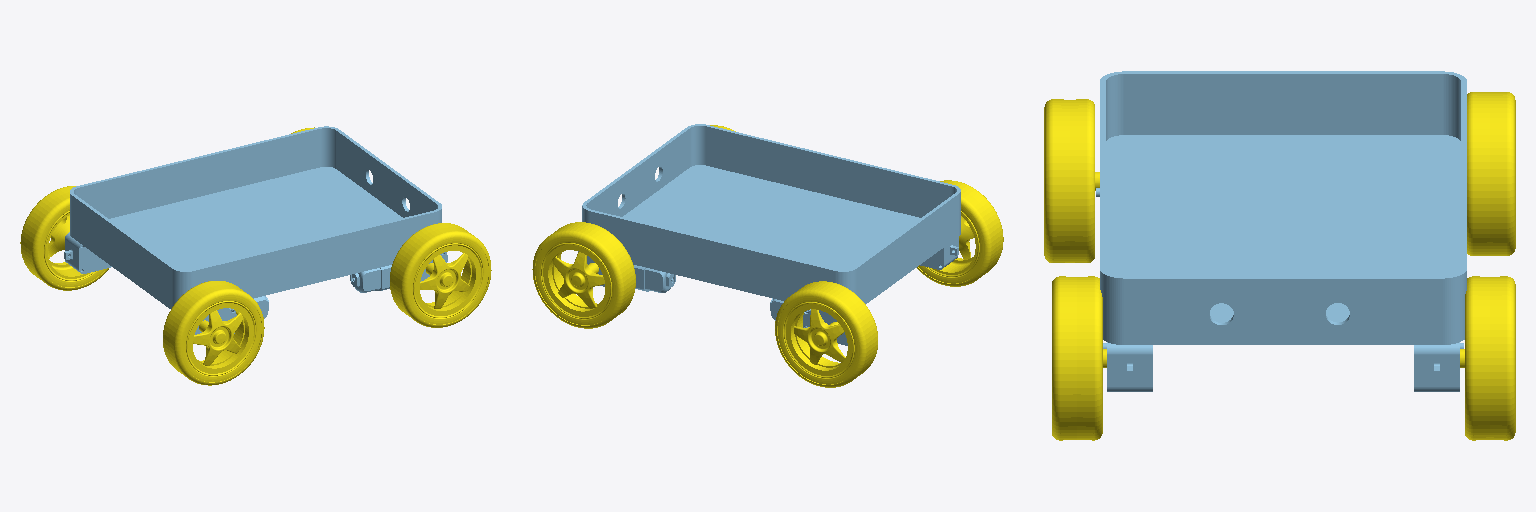
URDF robot description (ESP32-Robot):
<?xml version="1.0" ?>
<!-- Generated using onshape-to-robot -->
<!-- Onshape https://cad.onshape.com/documents/7fdcb55562a96810991061bd/w/7d5ac8f955a3dac2ff2d7f45/e/b62d95d33c773ee3148a519f -->
<robot name="ESP32-Robot">
  <!-- Link part_1 -->
  <link name="part_1">
    <inertial>
      <origin xyz="0.00444575 0.00770616 -0.0070872" rpy="0 0 0"/>
      <mass value="0.222036"/>
      <inertia ixx="0.000748572" ixy="5.82837e-06" ixz="2.33543e-06" iyy="0.00108581" iyz="-7.27808e-07" izz="0.00177234"/>
    </inertial>
    <!-- Part tt_motor___single_sided -->
    <visual>
      <origin xyz="0.0929445 0.0707125 -0.0174299" rpy="0 -0 1.5708"/>
      <geometry>
        <mesh filename="assets/tt_motor___single_sided.stl"/>
      </geometry>
      <material name="tt_motor___single_sided_material">
        <color rgba="0.615686 0.811765 0.929412 1"/>
      </material>
    </visual>
    <collision>
      <origin xyz="0.0929445 0.0707125 -0.0174299" rpy="0 -0 1.5708"/>
      <geometry>
        <mesh filename="assets/tt_motor___single_sided.stl"/>
      </geometry>
    </collision>
    <!-- Part part_1 -->
    <visual>
      <origin xyz="0.00387347 0.00801641 -0.0063299" rpy="0 -0 0"/>
      <geometry>
        <mesh filename="assets/part_1.stl"/>
      </geometry>
      <material name="part_1_material">
        <color rgba="0.615686 0.811765 0.929412 1"/>
      </material>
    </visual>
    <collision>
      <origin xyz="0.00387347 0.00801641 -0.0063299" rpy="0 -0 0"/>
      <geometry>
        <mesh filename="assets/part_1.stl"/>
      </geometry>
    </collision>
    <!-- Part tt_motor___single_sided_2 -->
    <visual>
      <origin xyz="0.0929445 -0.0546797 -0.0174299" rpy="-3.14159 0 -1.5708"/>
      <geometry>
        <mesh filename="assets/tt_motor___single_sided.stl"/>
      </geometry>
      <material name="tt_motor___single_sided_2_material">
        <color rgba="0.615686 0.811765 0.929412 1"/>
      </material>
    </visual>
    <collision>
      <origin xyz="0.0929445 -0.0546797 -0.0174299" rpy="-3.14159 0 -1.5708"/>
      <geometry>
        <mesh filename="assets/tt_motor___single_sided.stl"/>
      </geometry>
    </collision>
    <!-- Part tt_motor___single_sided_3 -->
    <visual>
      <origin xyz="-0.0781265 -0.0576086 -0.0174299" rpy="-0 0 -1.5708"/>
      <geometry>
        <mesh filename="assets/tt_motor___single_sided.stl"/>
      </geometry>
      <material name="tt_motor___single_sided_3_material">
        <color rgba="0.615686 0.811765 0.929412 1"/>
      </material>
    </visual>
    <collision>
      <origin xyz="-0.0781265 -0.0576086 -0.0174299" rpy="-0 0 -1.5708"/>
      <geometry>
        <mesh filename="assets/tt_motor___single_sided.stl"/>
      </geometry>
    </collision>
    <!-- Part tt_motor___single_sided_4 -->
    <visual>
      <origin xyz="-0.0851976 0.0707125 -0.0174299" rpy="-3.14159 0 1.5708"/>
      <geometry>
        <mesh filename="assets/tt_motor___single_sided.stl"/>
      </geometry>
      <material name="tt_motor___single_sided_4_material">
        <color rgba="0.615686 0.811765 0.929412 1"/>
      </material>
    </visual>
    <collision>
      <origin xyz="-0.0851976 0.0707125 -0.0174299" rpy="-3.14159 0 1.5708"/>
      <geometry>
        <mesh filename="assets/tt_motor___single_sided.stl"/>
      </geometry>
    </collision>
  </link>
  <!-- Link rueda_01 -->
  <link name="rueda_01">
    <inertial>
      <origin xyz="1.471e-09 -7.87e-10 0.00808802" rpy="0 0 0"/>
      <mass value="0.0456157"/>
      <inertia ixx="1.8438e-05" ixy="0" ixz="-0" iyy="1.84378e-05" iyz="0" izz="3.38736e-05"/>
    </inertial>
    <!-- Part rueda_01 -->
    <visual>
      <origin xyz="0 0 -0.0025" rpy="-1.5708 -1.5708 0"/>
      <geometry>
        <mesh filename="assets/rueda_01.stl"/>
      </geometry>
      <material name="rueda_01_material">
        <color rgba="1 0.937255 0.137255 1"/>
      </material>
    </visual>
    <collision>
      <origin xyz="0 0 -0.0025" rpy="-1.5708 -1.5708 0"/>
      <geometry>
        <mesh filename="assets/rueda_01.stl"/>
      </geometry>
    </collision>
  </link>
  <!-- Joint from part_1 to rueda_01 -->
  <joint name="back_left_wheel" type="continuous">
    <origin xyz="-0.0781265 -0.0716836 -0.0174299" rpy="1.5708 0.737462 -0"/>
    <parent link="part_1"/>
    <child link="rueda_01"/>
    <axis xyz="0 0 1"/>
    <limit effort="10" velocity="10"/>
  </joint>
  <!-- Link rueda_01_2 -->
  <link name="rueda_01_2">
    <inertial>
      <origin xyz="1.471e-09 -7.87e-10 0.00808802" rpy="0 0 0"/>
      <mass value="0.0456157"/>
      <inertia ixx="1.8438e-05" ixy="0" ixz="-0" iyy="1.84378e-05" iyz="0" izz="3.38736e-05"/>
    </inertial>
    <!-- Part rueda_01_2 -->
    <visual>
      <origin xyz="-0 -0 -0.0025" rpy="-1.5708 -1.5708 0"/>
      <geometry>
        <mesh filename="assets/rueda_01.stl"/>
      </geometry>
      <material name="rueda_01_2_material">
        <color rgba="1 0.937255 0.137255 1"/>
      </material>
    </visual>
    <collision>
      <origin xyz="-0 -0 -0.0025" rpy="-1.5708 -1.5708 0"/>
      <geometry>
        <mesh filename="assets/rueda_01.stl"/>
      </geometry>
    </collision>
  </link>
  <!-- Joint from part_1 to rueda_01_2 -->
  <joint name="front_left_wheel" type="continuous">
    <origin xyz="0.0929445 -0.0687547 -0.0174299" rpy="1.5708 -0.678958 0"/>
    <parent link="part_1"/>
    <child link="rueda_01_2"/>
    <axis xyz="0 0 1"/>
    <limit effort="10" velocity="10"/>
  </joint>
  <!-- Link rueda_01_3 -->
  <link name="rueda_01_3">
    <inertial>
      <origin xyz="1.471e-09 -7.87e-10 0.00808802" rpy="0 0 0"/>
      <mass value="0.0456157"/>
      <inertia ixx="1.8438e-05" ixy="0" ixz="-0" iyy="1.84378e-05" iyz="0" izz="3.38736e-05"/>
    </inertial>
    <!-- Part rueda_01_3 -->
    <visual>
      <origin xyz="0 0 -0.0025" rpy="-1.5708 -1.5708 0"/>
      <geometry>
        <mesh filename="assets/rueda_01.stl"/>
      </geometry>
      <material name="rueda_01_3_material">
        <color rgba="1 0.937255 0.137255 1"/>
      </material>
    </visual>
    <collision>
      <origin xyz="0 0 -0.0025" rpy="-1.5708 -1.5708 0"/>
      <geometry>
        <mesh filename="assets/rueda_01.stl"/>
      </geometry>
    </collision>
  </link>
  <!-- Joint from part_1 to rueda_01_3 -->
  <joint name="back_right_wheel" type="continuous">
    <origin xyz="-0.0851976 0.0847875 -0.0174299" rpy="-1.5708 -1.27829 -0"/>
    <parent link="part_1"/>
    <child link="rueda_01_3"/>
    <axis xyz="0 0 1"/>
    <limit effort="10" velocity="10"/>
  </joint>
  <!-- Link rueda_01_4 -->
  <link name="rueda_01_4">
    <inertial>
      <origin xyz="1.471e-09 -7.87e-10 0.00808802" rpy="0 0 0"/>
      <mass value="0.0456157"/>
      <inertia ixx="1.8438e-05" ixy="0" ixz="-0" iyy="1.84378e-05" iyz="0" izz="3.38736e-05"/>
    </inertial>
    <!-- Part rueda_01_4 -->
    <visual>
      <origin xyz="0 0 -0.0025" rpy="-1.5708 -1.5708 0"/>
      <geometry>
        <mesh filename="assets/rueda_01.stl"/>
      </geometry>
      <material name="rueda_01_4_material">
        <color rgba="1 0.937255 0.137255 1"/>
      </material>
    </visual>
    <collision>
      <origin xyz="0 0 -0.0025" rpy="-1.5708 -1.5708 0"/>
      <geometry>
        <mesh filename="assets/rueda_01.stl"/>
      </geometry>
    </collision>
  </link>
  <!-- Joint from part_1 to rueda_01_4 -->
  <joint name="front_right_wheel" type="continuous">
    <origin xyz="0.0929445 0.0847875 -0.0174299" rpy="-1.5708 -0.439417 -0"/>
    <parent link="part_1"/>
    <child link="rueda_01_4"/>
    <axis xyz="0 0 1"/>
    <limit effort="10" velocity="10"/>
  </joint>
</robot>

--- Render facts (derived) ---
The picture shows the robot from 3 angles, left to right: view 1: azimuth 30°, elevation 25°; view 2: azimuth 150°, elevation 25°; view 3: azimuth 270°, elevation 25°; orthographic projection.
Robot: ESP32-Robot — 5 links, 4 joints (4 continuous); root link part_1; default pose: all joints at 0.
Links seen in each view (by area): view 1: part_1, rueda_01, rueda_01_2, rueda_01_3; view 2: part_1, rueda_01_4, rueda_01_3, rueda_01; view 3: part_1, rueda_01, rueda_01_4, rueda_01_2, rueda_01_3.
Link boxes in pixels (x1,y1,x2,y2): part_1: (64, 126, 447, 334); rueda_01: (163, 281, 264, 385); rueda_01_2: (390, 223, 491, 327); rueda_01_3: (20, 186, 108, 290); part_1: (578, 124, 960, 345); rueda_01_4: (532, 222, 635, 328); rueda_01_3: (775, 281, 877, 387); rueda_01: (917, 180, 1003, 286); part_1: (1096, 71, 1466, 391); rueda_01: (1044, 99, 1099, 262); rueda_01_4: (1460, 276, 1515, 440); rueda_01_2: (1052, 276, 1106, 440); rueda_01_3: (1467, 92, 1515, 255).
Size in the robot's own frame: 0.2451 by 0.1923 by 0.0746 metres.
9 mesh visuals loaded from 3 distinct referenced files (3 binary STL).
